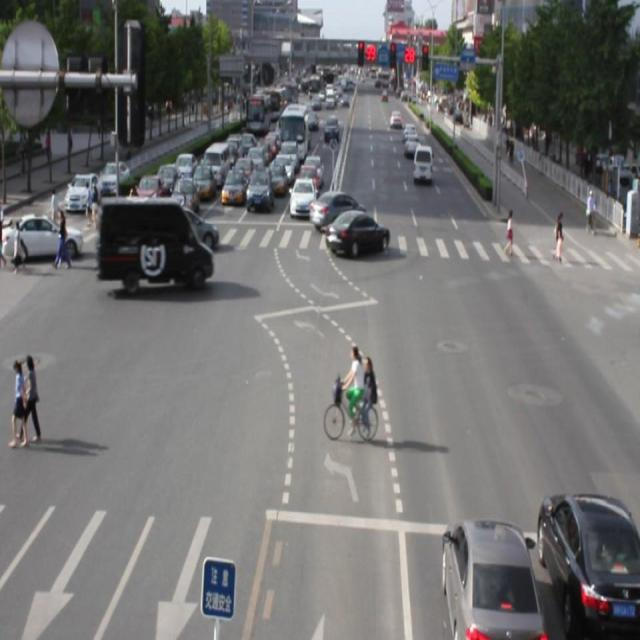car: (535, 493, 640, 640), (442, 516, 541, 640), (142, 204, 218, 249), (326, 210, 388, 255), (311, 188, 369, 229)
truck: (95, 195, 213, 293)
